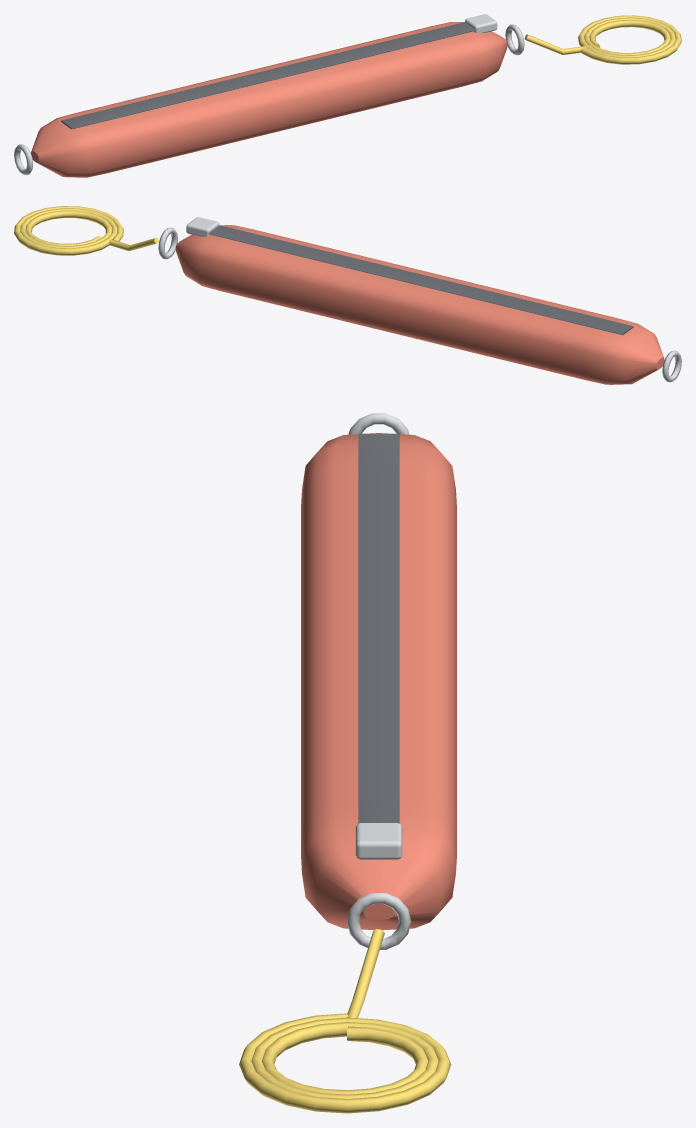
The model's file is beach-surf-and-paddle-kit-rescue-tube-1b321011__39453.glb.
3 views of the same model, one above another, from view 1: azimuth 30°, elevation 25°; view 2: azimuth 150°, elevation 25°; view 3: azimuth 270°, elevation 25° (orthographic). The views are drawn at different scales.
Visible parts, largest first — view 1: rescue-tube-coral, rescue-tube-charcoal, rescue-tube-sun, rescue-tube-steel; view 2: rescue-tube-coral, rescue-tube-charcoal, rescue-tube-sun, rescue-tube-steel; view 3: rescue-tube-coral, rescue-tube-charcoal, rescue-tube-sun, rescue-tube-steel.
Part boxes in pixels (bbox=[...]): rescue-tube-coral: bbox=[31, 22, 507, 177]; rescue-tube-charcoal: bbox=[61, 22, 475, 129]; rescue-tube-sun: bbox=[524, 15, 681, 64]; rescue-tube-steel: bbox=[14, 14, 524, 175]; rescue-tube-coral: bbox=[175, 225, 664, 384]; rescue-tube-charcoal: bbox=[208, 225, 633, 335]; rescue-tube-sun: bbox=[14, 206, 158, 255]; rescue-tube-steel: bbox=[158, 217, 681, 382]; rescue-tube-coral: bbox=[301, 433, 456, 930]; rescue-tube-charcoal: bbox=[358, 433, 399, 823]; rescue-tube-sun: bbox=[239, 929, 451, 1113]; rescue-tube-steel: bbox=[346, 413, 411, 949].
Size of the model in its own units: 1.43 by 0.11 by 0.2095.
